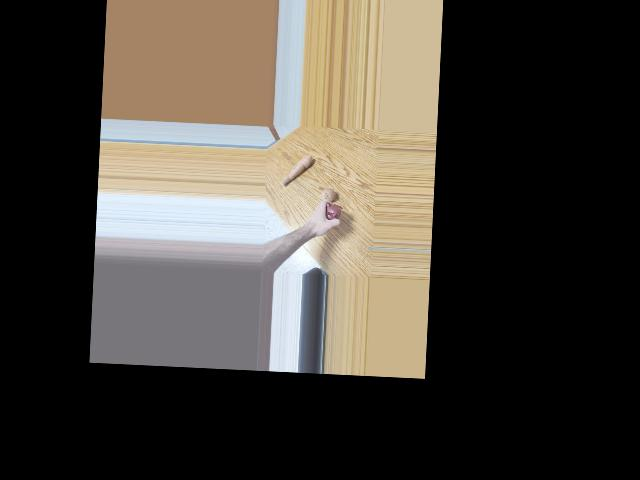onion: (320, 187, 336, 204)
